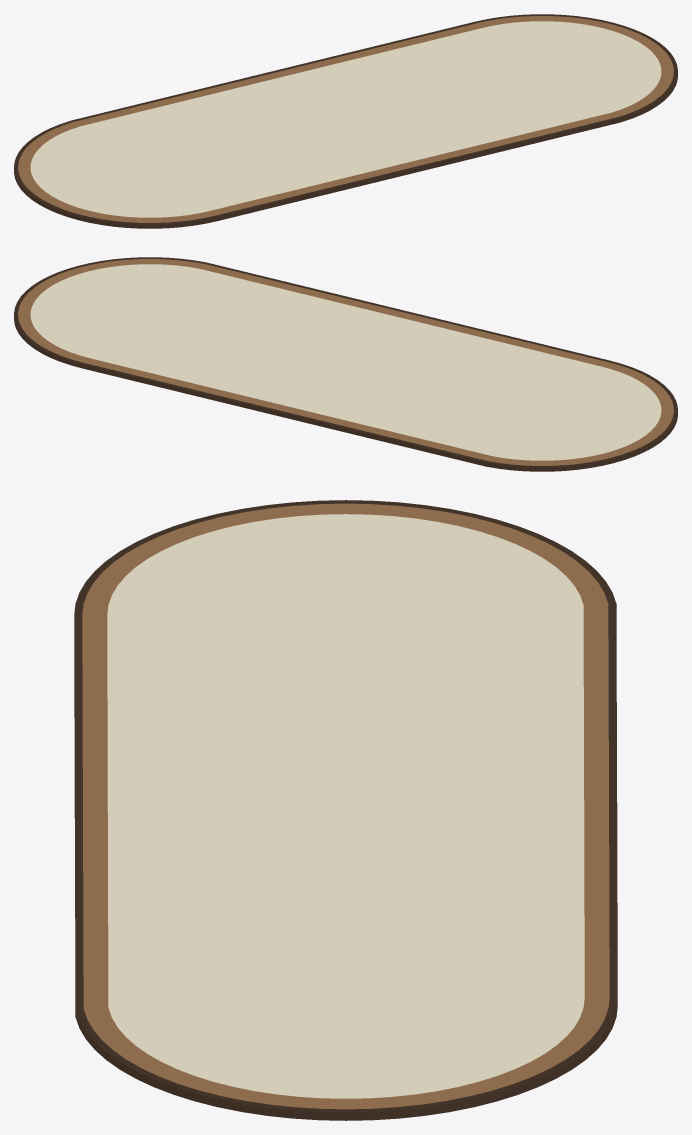
File: teahouse-runner-rug.glb
3 views of the same model, one above another, from view 1: azimuth 30°, elevation 25°; view 2: azimuth 150°, elevation 25°; view 3: azimuth 270°, elevation 25° (orthographic). The views are drawn at different scales.
Parts seen in each view (by area): view 1: library-runner-rug.006; view 2: library-runner-rug.006; view 3: library-runner-rug.006.
Part boxes in pixels (left/top/right/bottom): library-runner-rug.006: left=14, top=14, right=677, bottom=228; library-runner-rug.006: left=14, top=257, right=677, bottom=471; library-runner-rug.006: left=74, top=500, right=617, bottom=1120.
Bounding box in the file's own units: 3.2 × 0.0196 × 1.2.
